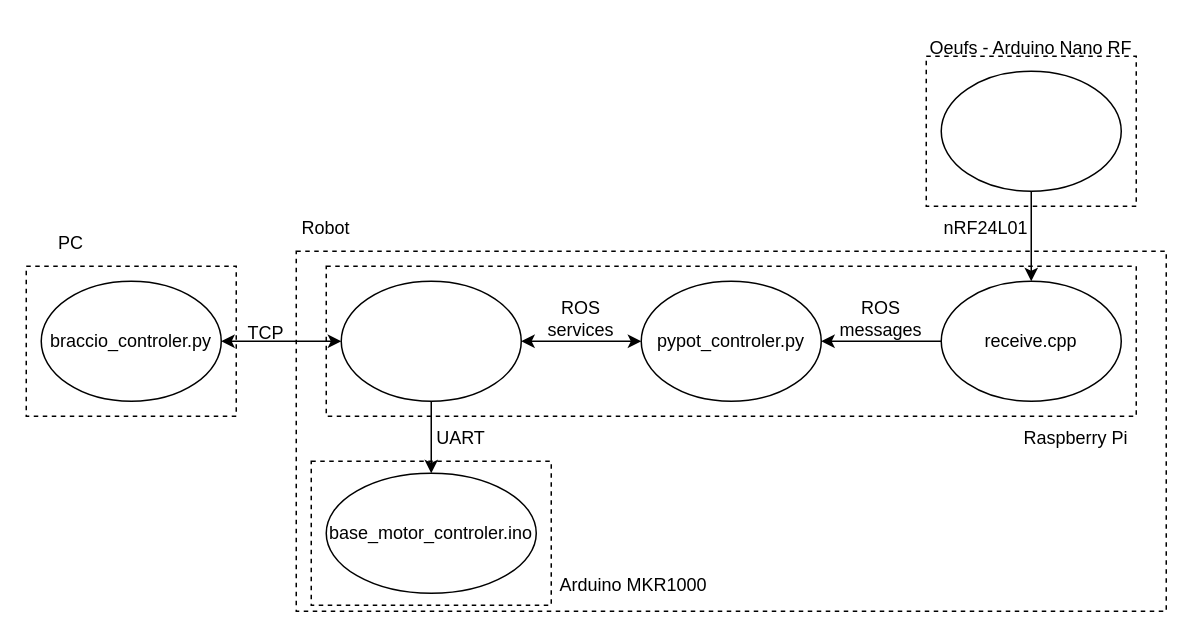
Some shapes in this 1193 by 638 pixel diagram are drawn without their labels. Each missing label, with the box of its shape:
eggs.ino: (940, 70, 1121, 191)
remote_server.cpp: (340, 280, 521, 401)
